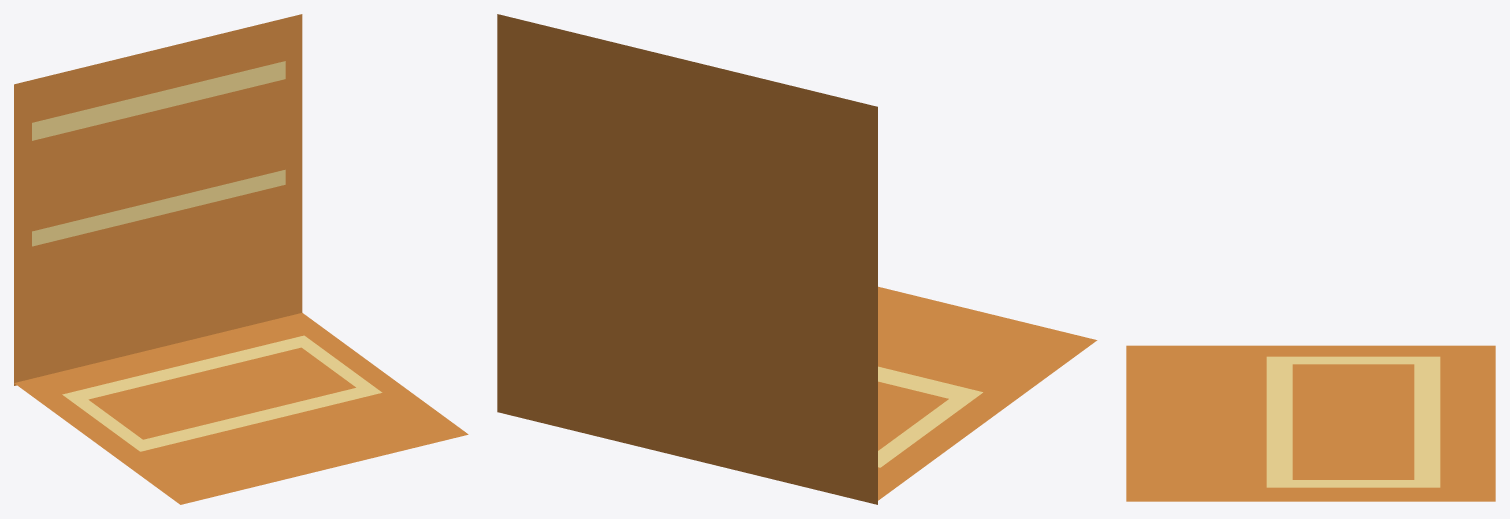
Rendered from Oven_Glow.glb.
The picture shows the model from 3 angles, left to right: view 1: azimuth 30°, elevation 25°; view 2: azimuth 150°, elevation 25°; view 3: azimuth 270°, elevation 25°; orthographic projection. The views are drawn at different scales.
Visible parts, largest first — view 1: Oven_Glow; view 2: Oven_Glow; view 3: Oven_Glow.
Boxes of the visible parts, left/top/right/bottom form: Oven_Glow: left=14, top=14, right=468, bottom=504; Oven_Glow: left=497, top=14, right=1097, bottom=504; Oven_Glow: left=1126, top=345, right=1495, bottom=501.
Bounding box in the file's own units: 1 × 1 × 1.
